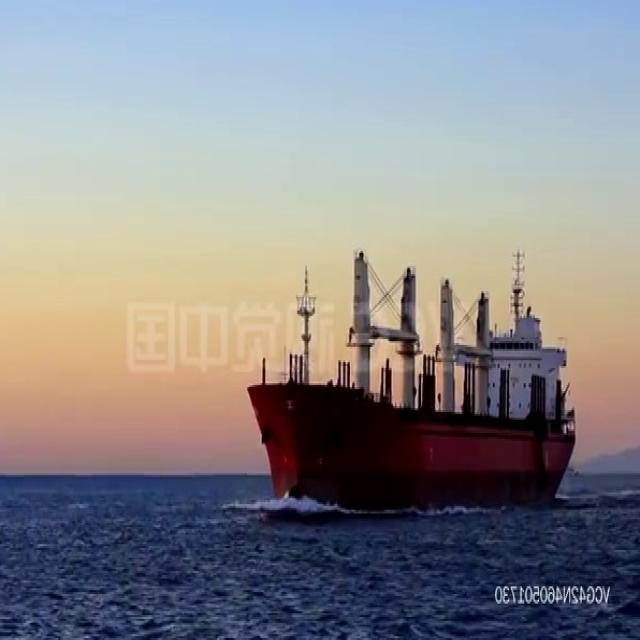cargoship: (250, 243, 578, 513)
